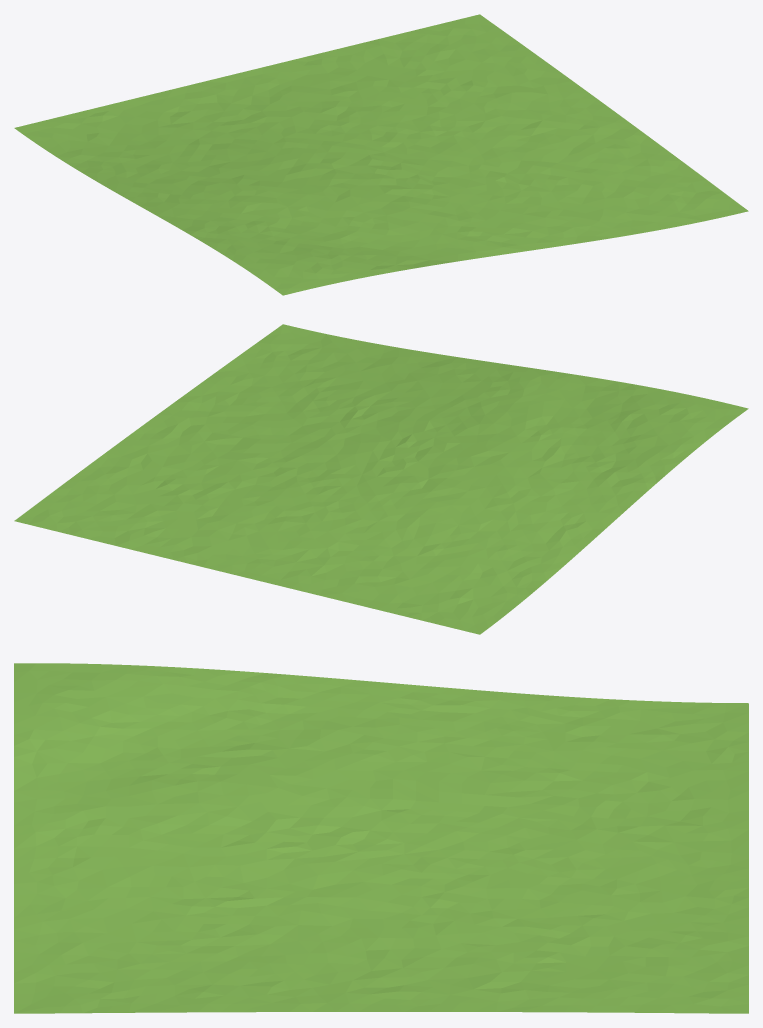
Rendered from MT_River_End_L_d_04.fbx.
The picture shows the model from 3 angles, top to bottom: view 1: azimuth 30°, elevation 25°; view 2: azimuth 150°, elevation 25°; view 3: azimuth 270°, elevation 25°; orthographic projection. The views are drawn at different scales.
Visible parts, largest first — view 1: MT_River_End_L_d_04; view 2: MT_River_End_L_d_04; view 3: MT_River_End_L_d_04.
Part boxes in pixels (left/top/right/bottom): MT_River_End_L_d_04: left=14, top=14, right=748, bottom=295; MT_River_End_L_d_04: left=14, top=324, right=748, bottom=634; MT_River_End_L_d_04: left=14, top=663, right=748, bottom=1013.
Bounding box in the file's own units: 10000 × 611 × 10000.
